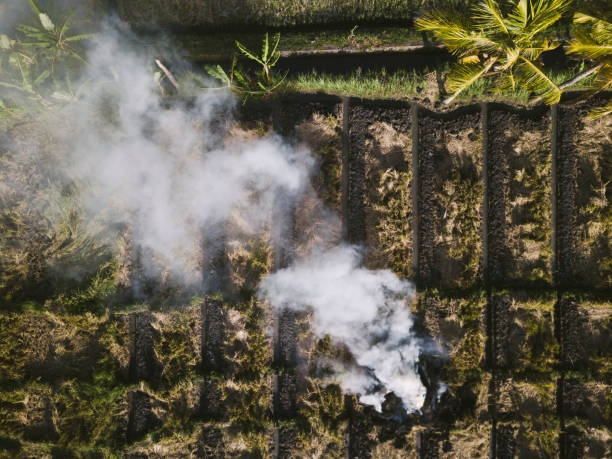smoke: (36, 37, 301, 271), (257, 241, 426, 413)
